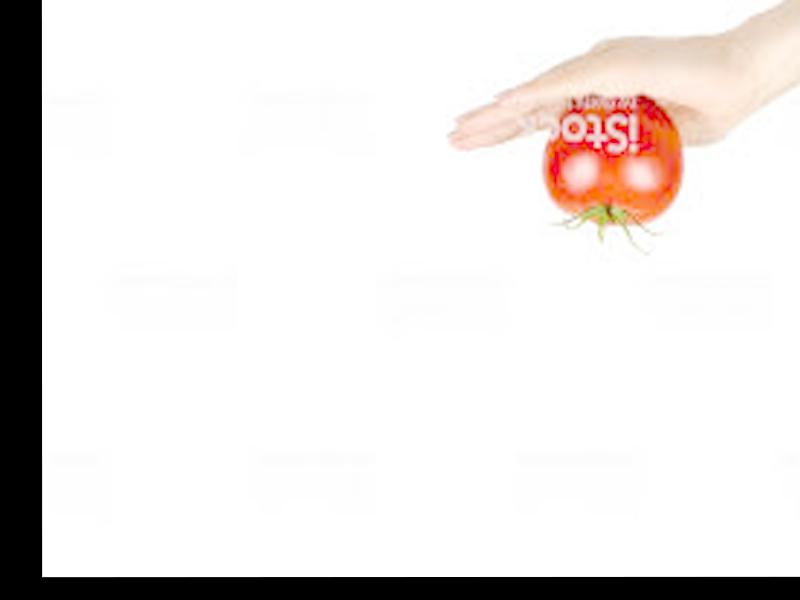Tomato: (544, 97, 684, 228)
